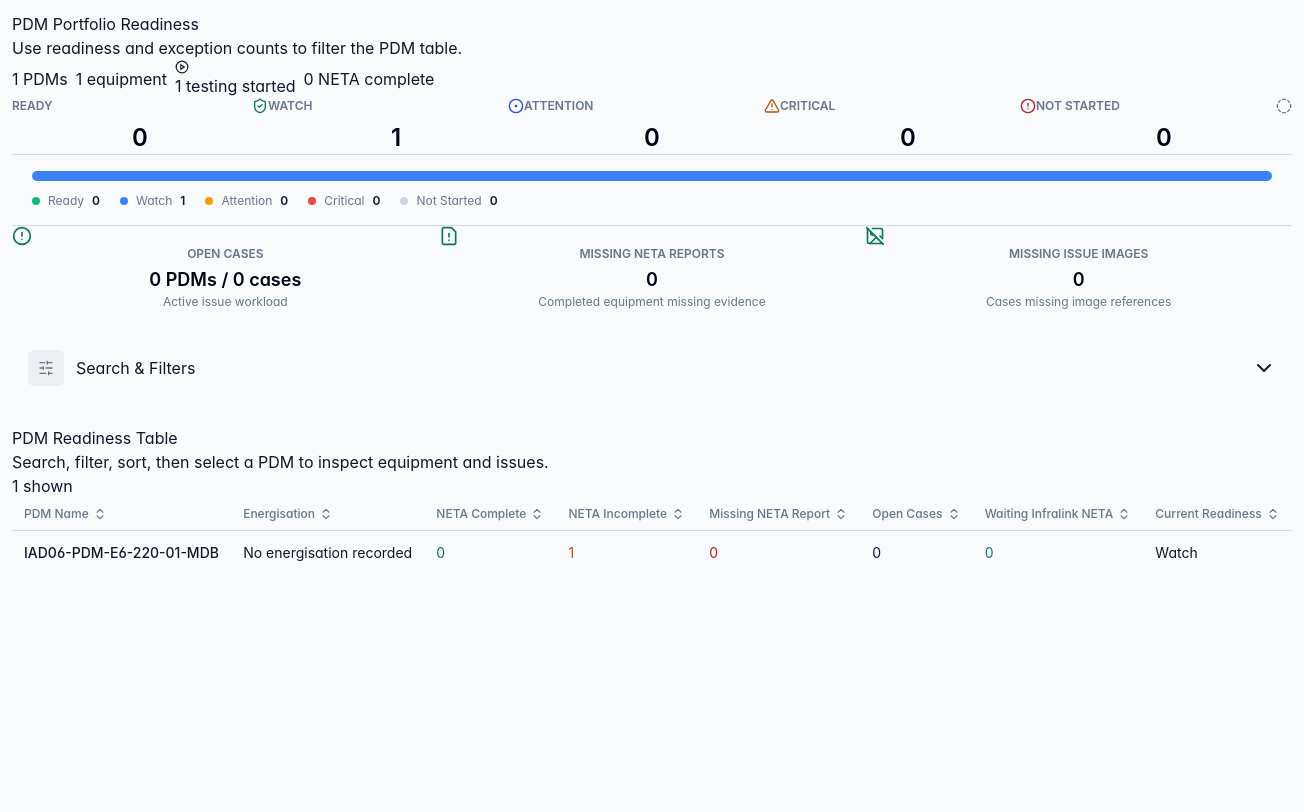
Scenario: PDM page interaction › opens and closes the selected PDM detail without clearing the page
Step 1. Click the cell "IAD06-PDM-E6-220-01-MDB" → (122, 553), box [12, 530, 231, 575]
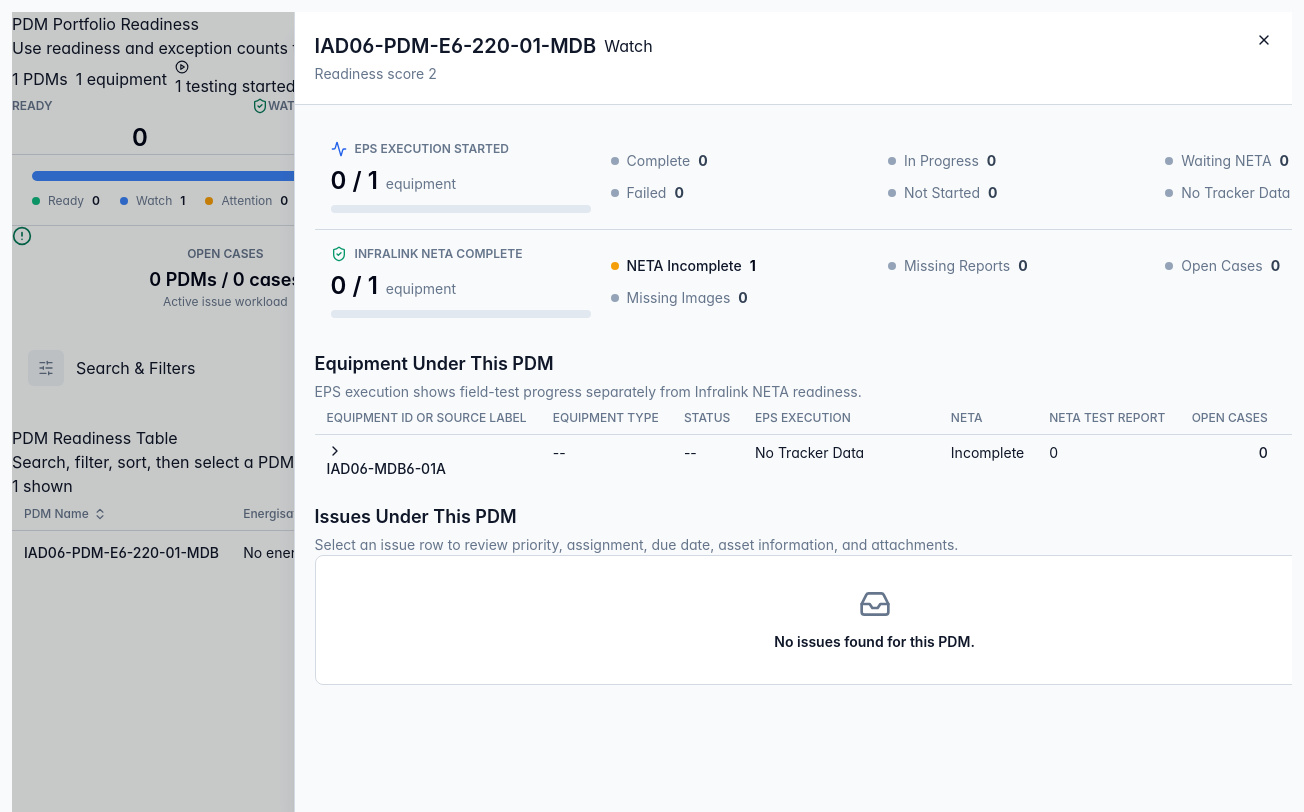
Expected: the heading "Equipment Under This PDM" is shown, [315, 353, 554, 374]
Step 2. Click the button named "Close PDM detail" → (1264, 40), box [1256, 32, 1272, 48]
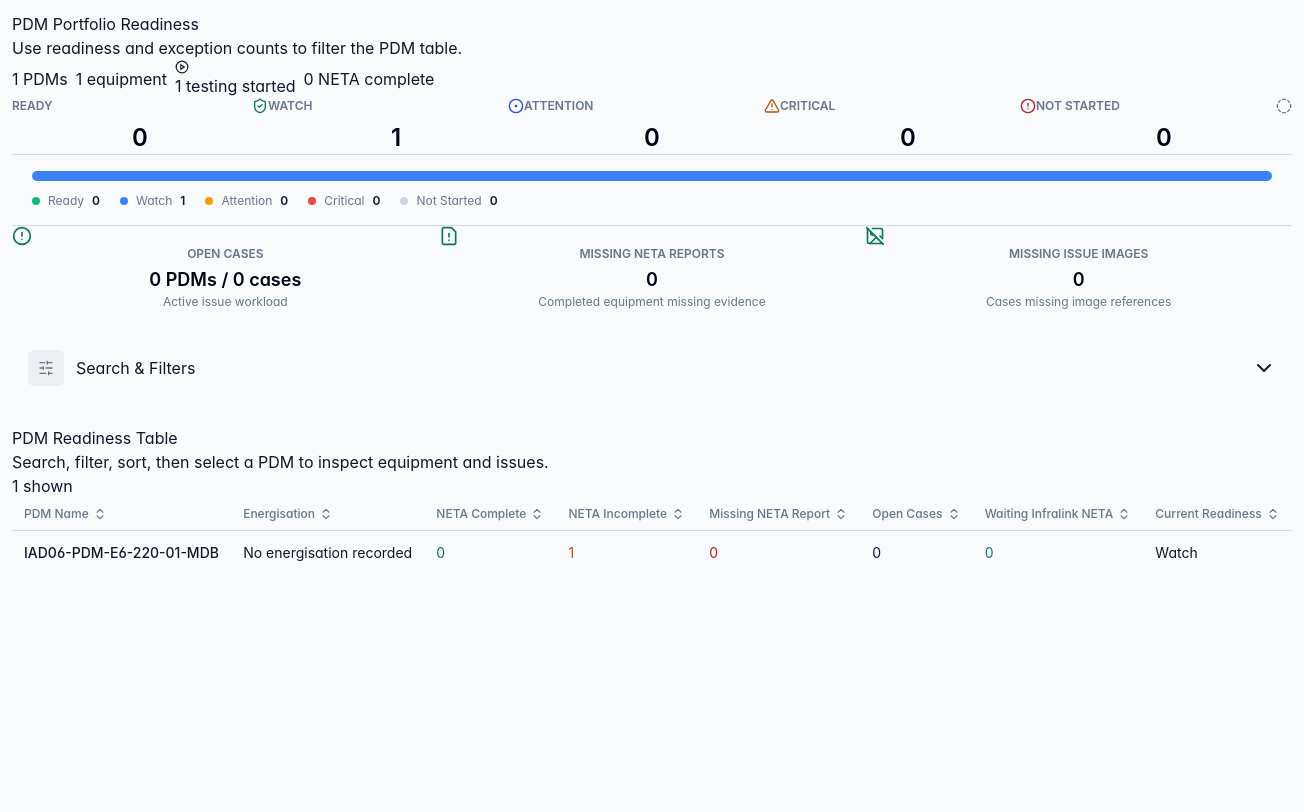
Expected: the heading "PDM Readiness Table" is shown, [12, 428, 178, 448]
Expected: the heading "Equipment Under This PDM" is gone
